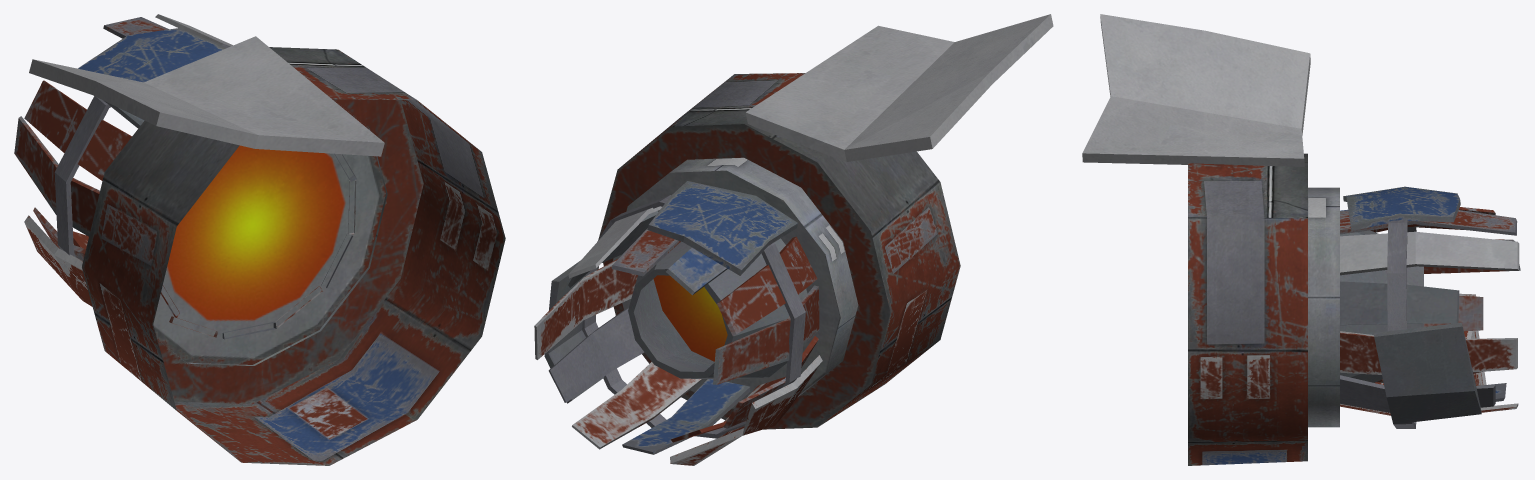
File: HCP5.fbx
3 renders of one model, left to right at view 1: azimuth 30°, elevation 25°; view 2: azimuth 150°, elevation 25°; view 3: azimuth 270°, elevation 25°, orthographic. The views are drawn at different scales.
Visible parts, largest first — view 1: fiveD; view 2: fiveD; view 3: fiveD.
Boxes of the visible parts, <box> form: fiveD: <box>14,14,505,465</box>; fiveD: <box>534,14,1053,465</box>; fiveD: <box>1082,14,1520,465</box>.
Bounding box in the file's own units: 3453 × 3663 × 4140.
1 material, 1 textured.
